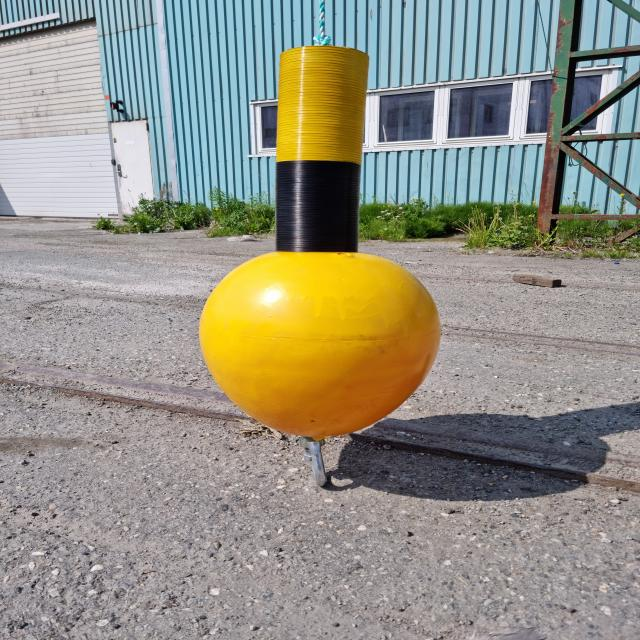west: (202, 46, 445, 440)
